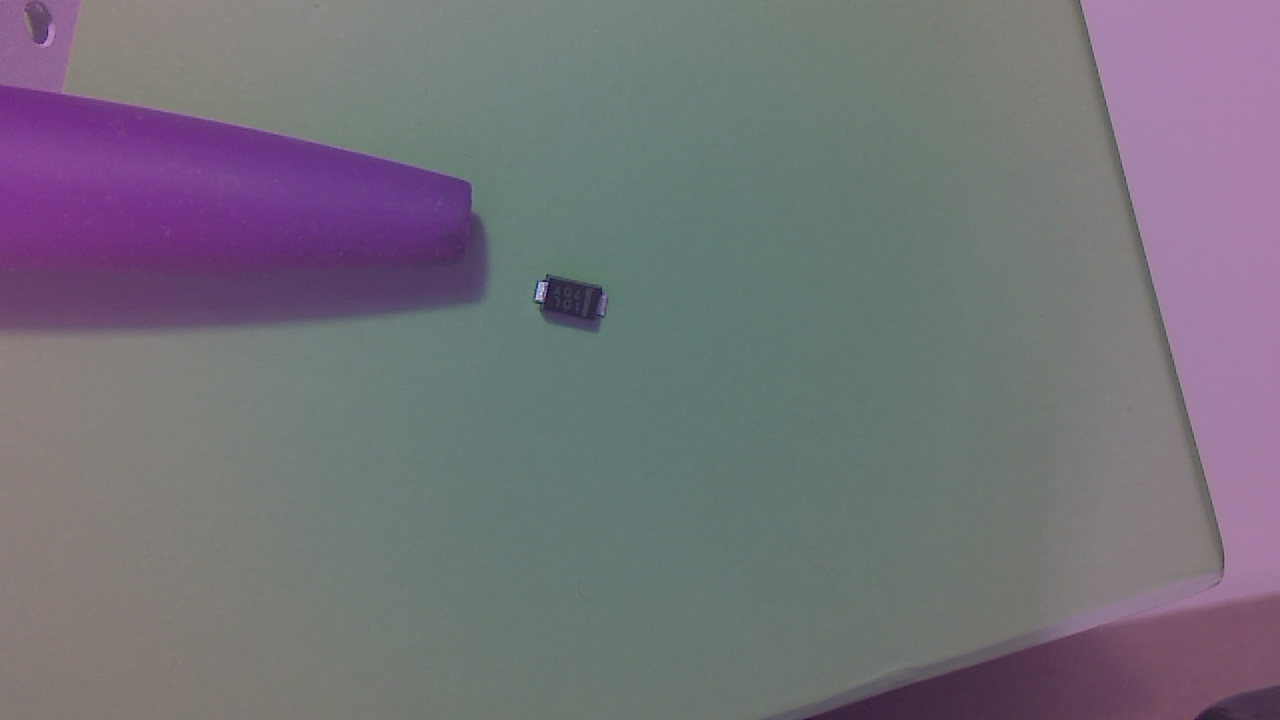Diode: (533, 279, 615, 329)
